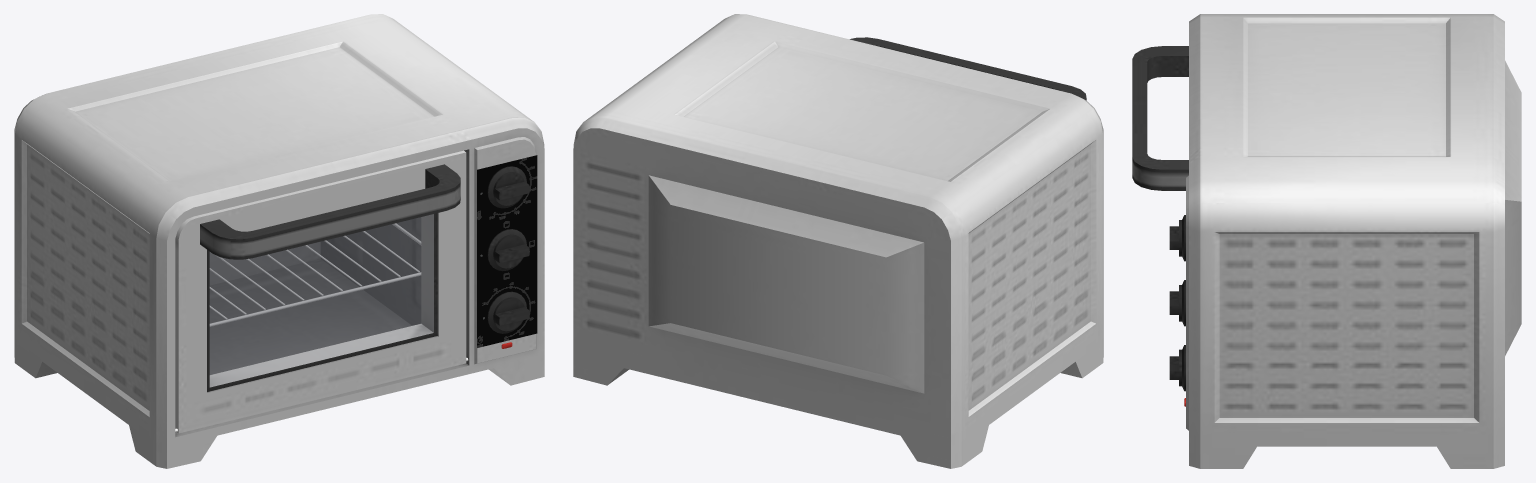
The model's file is sh_scopia_small_oven.glb.
3 views of the same model, side by side, from view 1: azimuth 30°, elevation 25°; view 2: azimuth 150°, elevation 25°; view 3: azimuth 270°, elevation 25° (orthographic). The views are drawn at different scales.
Size of the model in its own units: 0.564 by 0.364 by 0.473.
12 materials, 8 textured.
